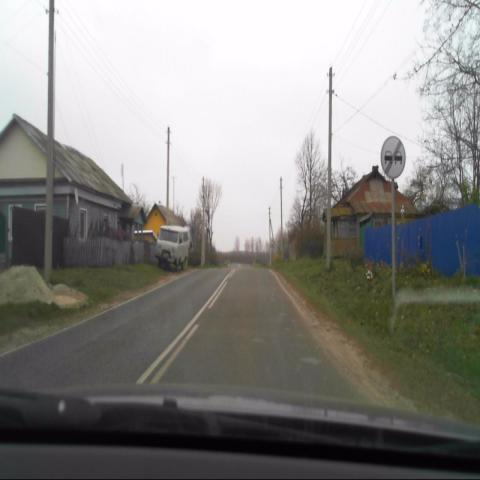3_21: (380, 135, 406, 180)
